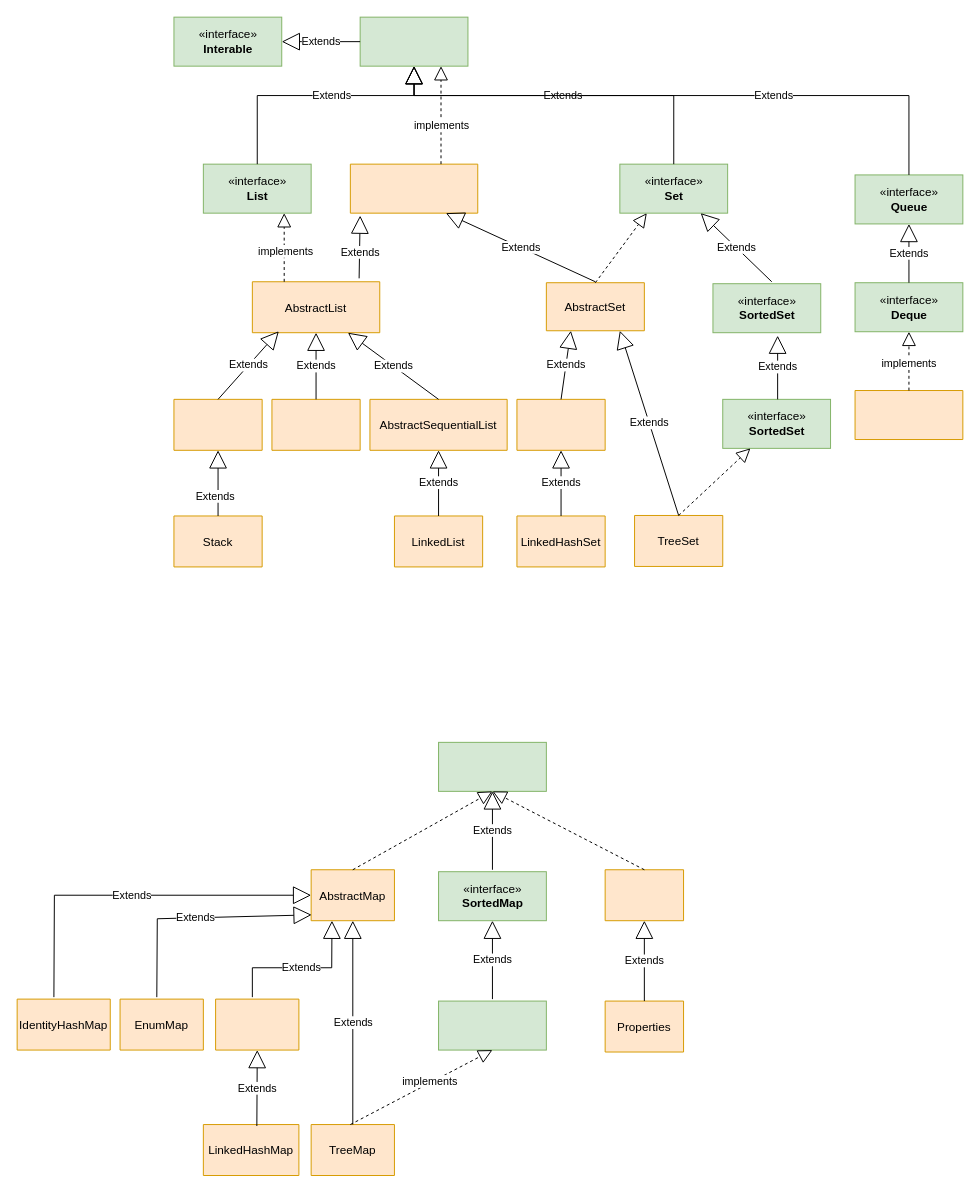
The diagram is 980 pixels wide and 1193 high, and some of its shapes have lost their labels. The box of each missing label's shape, as (x1, y1, x2, y2) in pixels:
AbstraceCollection: (349, 163, 478, 213)
ArrayDeque: (854, 390, 963, 440)
ArrayList: (271, 398, 360, 450)
HashMap: (215, 998, 299, 1050)
HashSet: (516, 398, 605, 450)
Hashtable: (604, 869, 684, 921)
Vector: (173, 398, 262, 450)
«interface» Collection: (359, 16, 468, 66)
«interface» Map: (438, 741, 546, 791)
«interface» NavigableMap: (438, 1000, 546, 1050)
